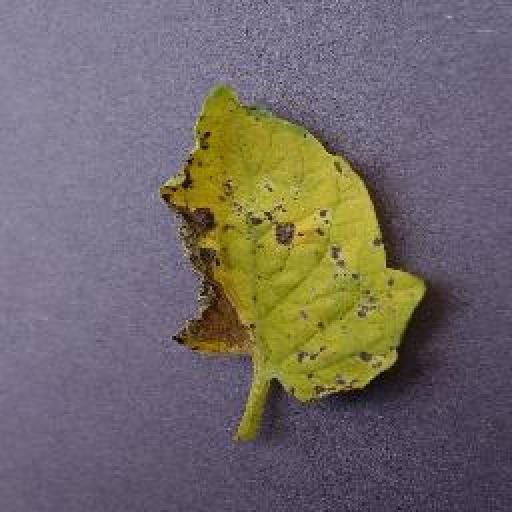Septoria: (162, 81, 431, 403)
